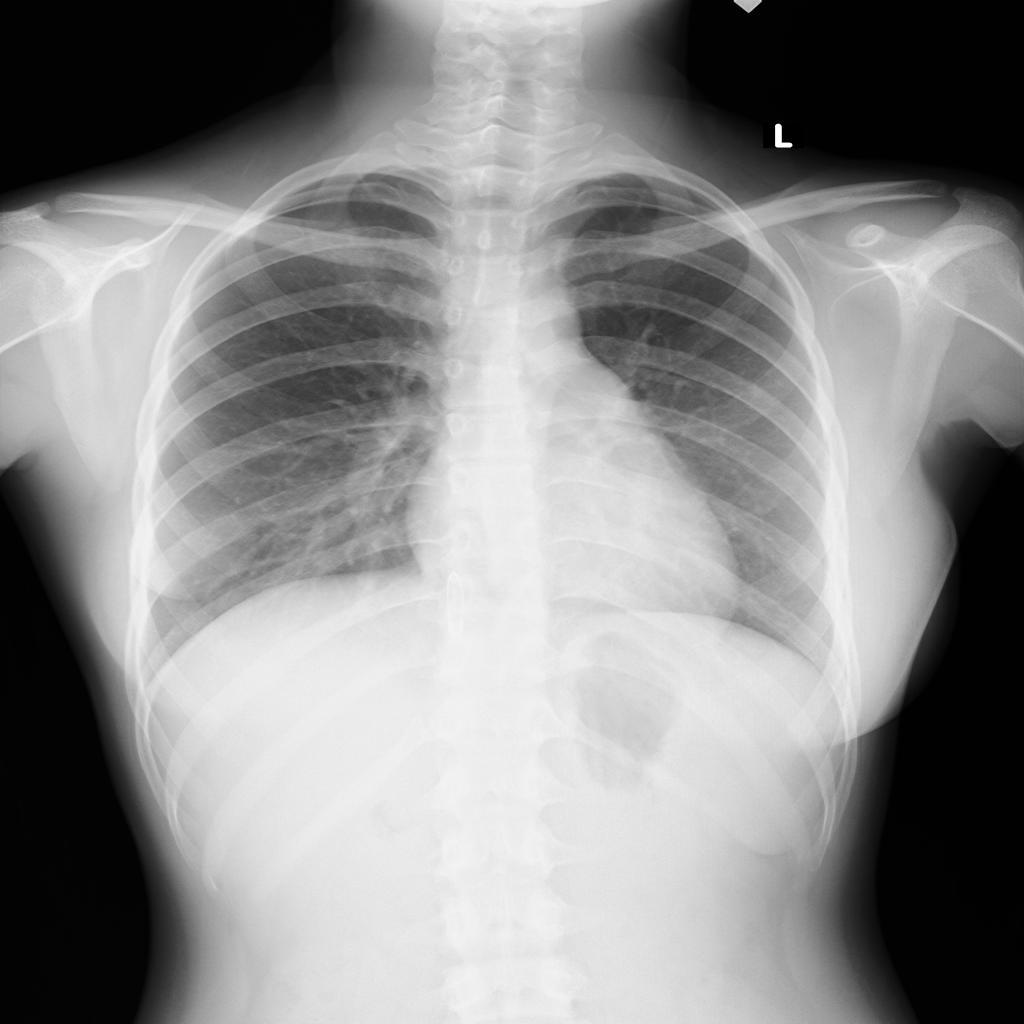Nodule: (133, 502, 252, 600)
